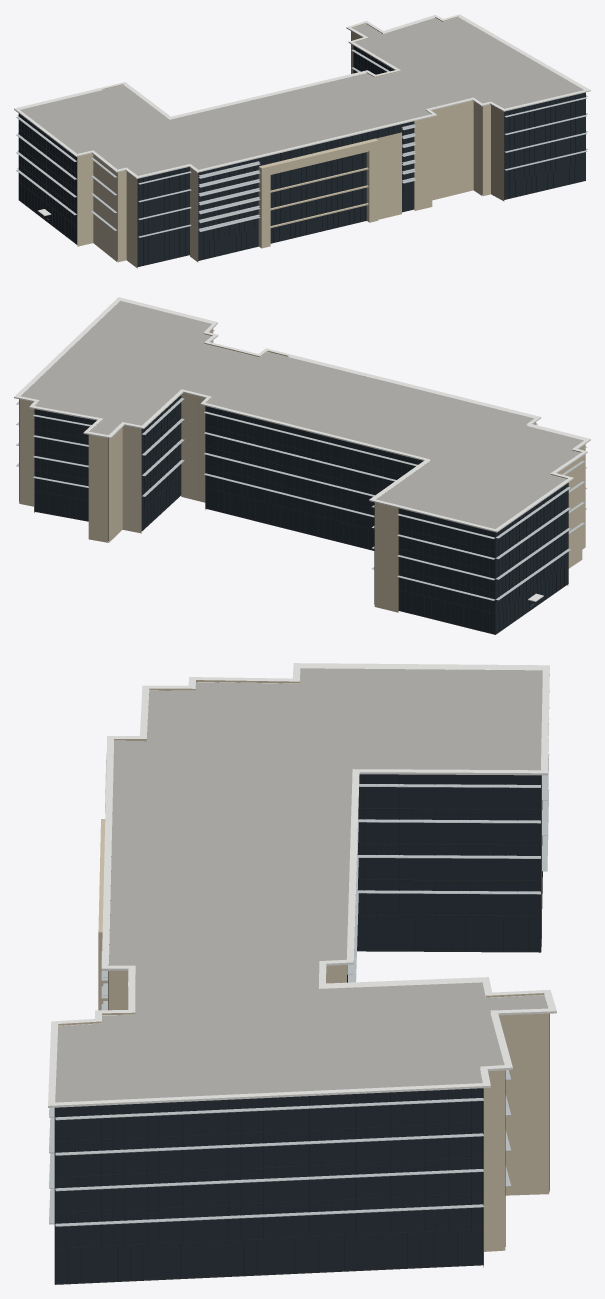
Rendered from bioengineering_science_building.glb.
3 renders of one model, top to bottom at view 1: azimuth 30°, elevation 25°; view 2: azimuth 150°, elevation 25°; view 3: azimuth 270°, elevation 25°, orthographic. The views are drawn at different scales.
Visible parts, largest first — view 1: bioengineering_science_building_Roof_Membrane, bioengineering_science_building_Glass_dark, bioengineering_science_building_Wall_limestone, bioengineering_science_building_Frame_Dark, bioengineering_science_building_Sunshade_Alu, bioengineering_science_building_Trim_White; view 2: bioengineering_science_building_Roof_Membrane, bioengineering_science_building_Glass_dark, bioengineering_science_building_Wall_limestone, bioengineering_science_building_Frame_Dark, bioengineering_science_building_Trim_White, bioengineering_science_building_Sunshade_Alu; view 3: bioengineering_science_building_Roof_Membrane, bioengineering_science_building_Glass_dark, bioengineering_science_building_Frame_Dark, bioengineering_science_building_Trim_White, bioengineering_science_building_Wall_limestone, bioengineering_science_building_Sunshade_Alu.
Part boxes in pixels (x1,y1,x2,y2): bioengineering_science_building_Roof_Membrane: [20, 17, 583, 175]; bioengineering_science_building_Glass_dark: [19, 46, 585, 266]; bioengineering_science_building_Wall_limestone: [77, 16, 504, 268]; bioengineering_science_building_Frame_Dark: [18, 46, 585, 266]; bioengineering_science_building_Sunshade_Alu: [16, 49, 587, 237]; bioengineering_science_building_Trim_White: [14, 14, 590, 216]; bioengineering_science_building_Roof_Membrane: [21, 301, 583, 528]; bioengineering_science_building_Glass_dark: [34, 395, 567, 633]; bioengineering_science_building_Wall_limestone: [19, 329, 585, 612]; bioengineering_science_building_Frame_Dark: [19, 397, 568, 634]; bioengineering_science_building_Trim_White: [14, 297, 590, 601]; bioengineering_science_building_Sunshade_Alu: [16, 330, 586, 600]; bioengineering_science_building_Roof_Membrane: [55, 668, 548, 1102]; bioengineering_science_building_Glass_dark: [55, 774, 540, 1283]; bioengineering_science_building_Frame_Dark: [54, 774, 549, 1284]; bioengineering_science_building_Trim_White: [48, 663, 556, 1107]; bioengineering_science_building_Wall_limestone: [58, 680, 549, 1267]; bioengineering_science_building_Sunshade_Alu: [49, 718, 549, 1226].
Bounding box in the file's own units: 135 × 26.1 × 64.97.
